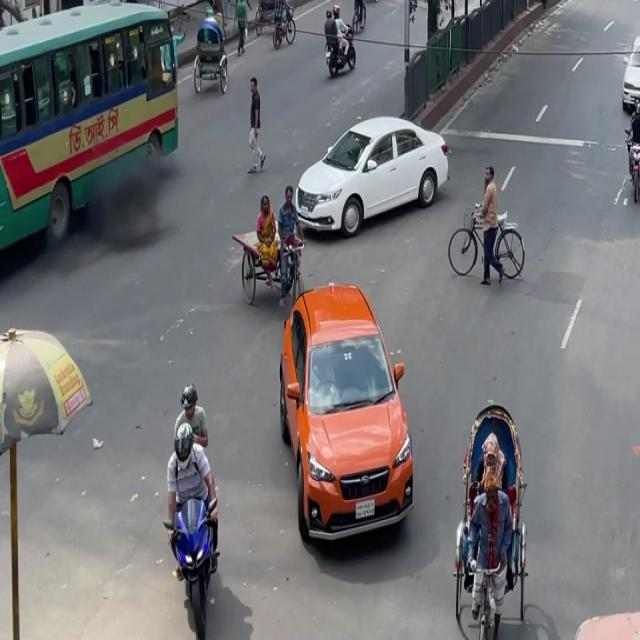bicycle: (442, 200, 529, 299), (270, 10, 298, 52)
bus: (0, 0, 184, 242)
car: (265, 268, 427, 559), (288, 88, 453, 253), (617, 25, 640, 120)
motorbike: (145, 372, 243, 627), (319, 5, 359, 86), (617, 100, 640, 208)
